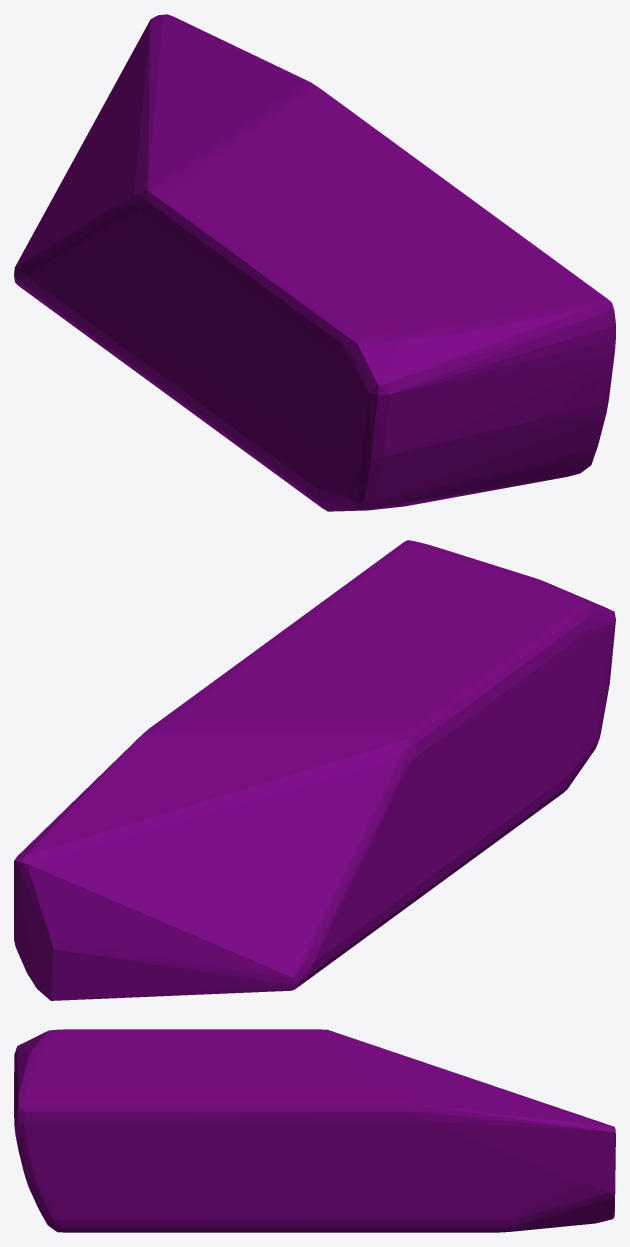
File: left-hip-roll-0_part_11.obj
3 views of the same model, one above another, from view 1: azimuth 30°, elevation 25°; view 2: azimuth 150°, elevation 25°; view 3: azimuth 270°, elevation 25° (orthographic). The views are drawn at different scales.
Bounding box in the file's own units: 0.0269 × 0.02 × 0.0853.
